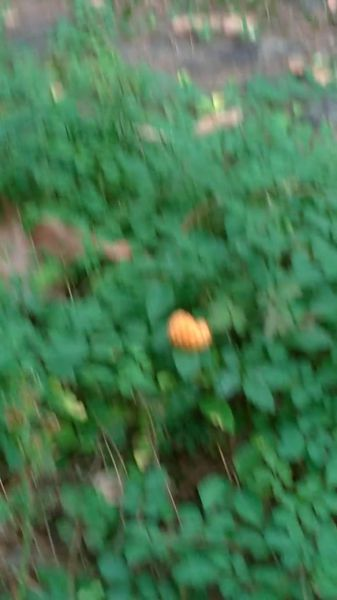eggs: (166, 308, 216, 356)
